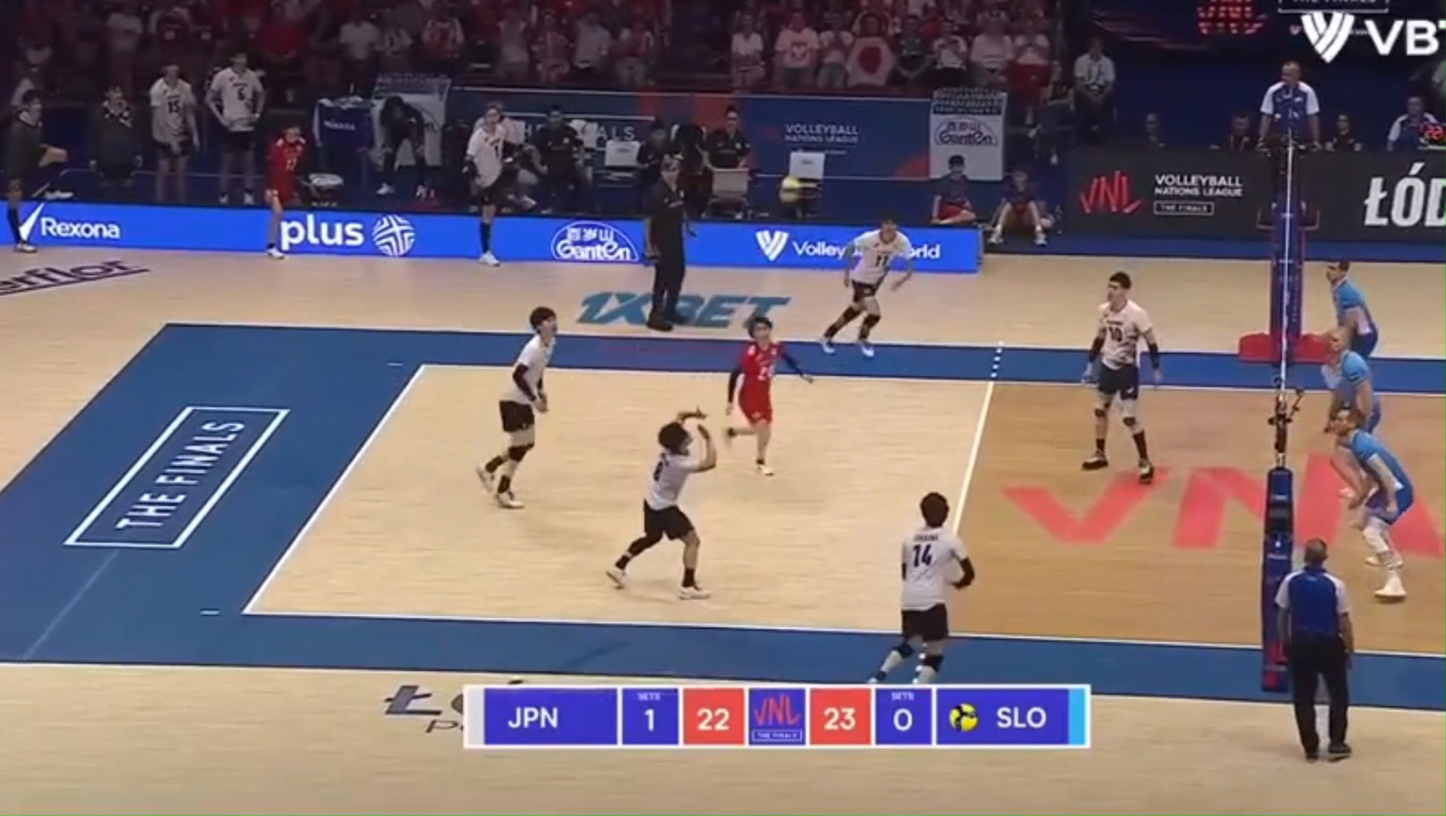ball: (779, 176, 802, 203)
player: (1328, 408, 1415, 600), (1323, 328, 1380, 430), (1327, 261, 1378, 357)
player 1: (870, 492, 975, 684), (608, 410, 715, 598), (1081, 271, 1160, 483), (477, 306, 556, 508), (725, 317, 811, 476), (820, 218, 913, 357)
referee: (1275, 538, 1353, 760), (1257, 61, 1320, 233), (644, 156, 691, 331)
